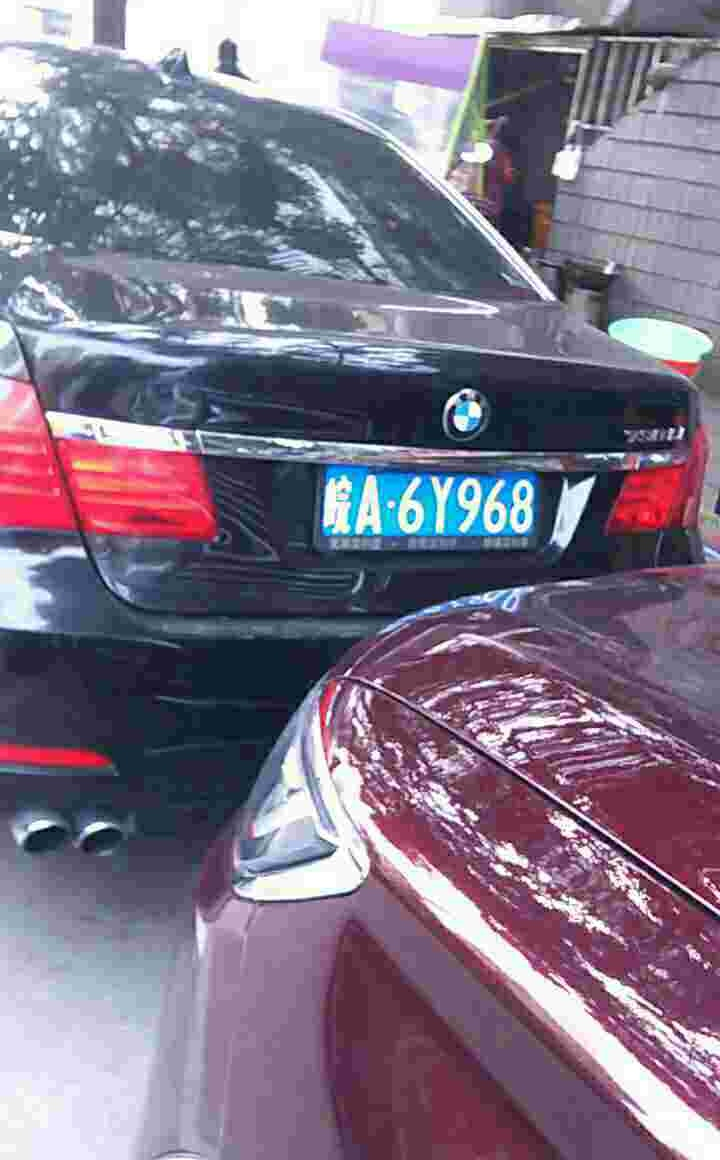license_plate: (328, 461, 550, 546)
